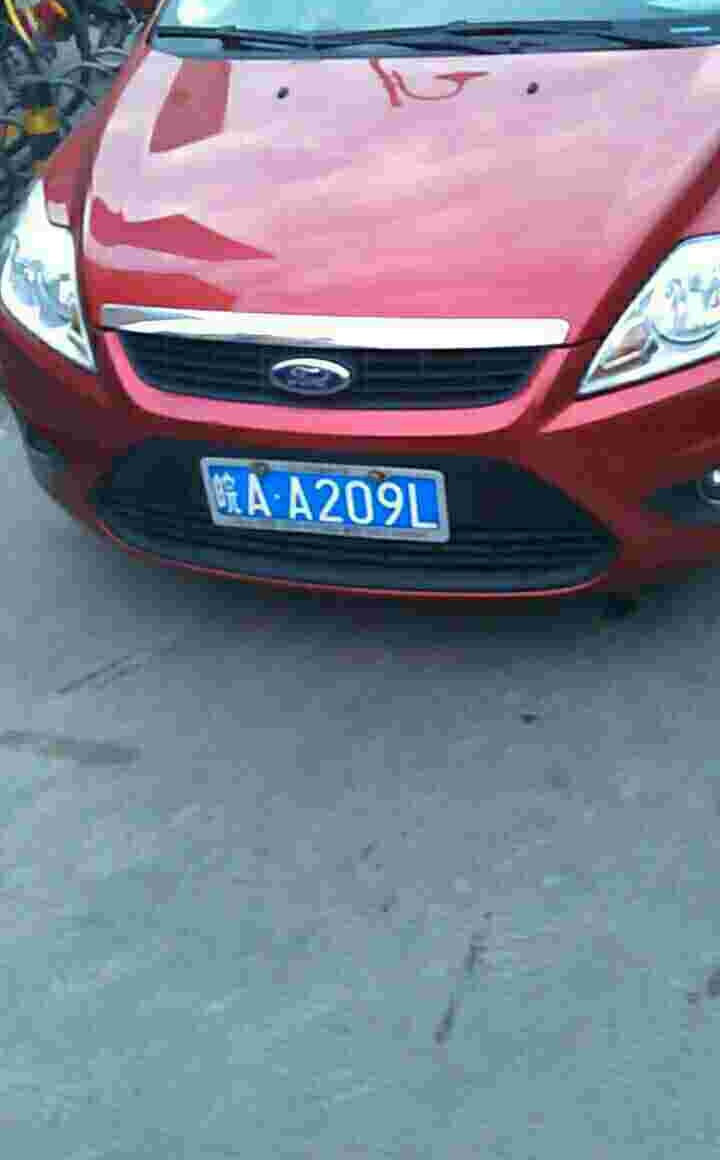plate: (202, 455, 453, 545)
